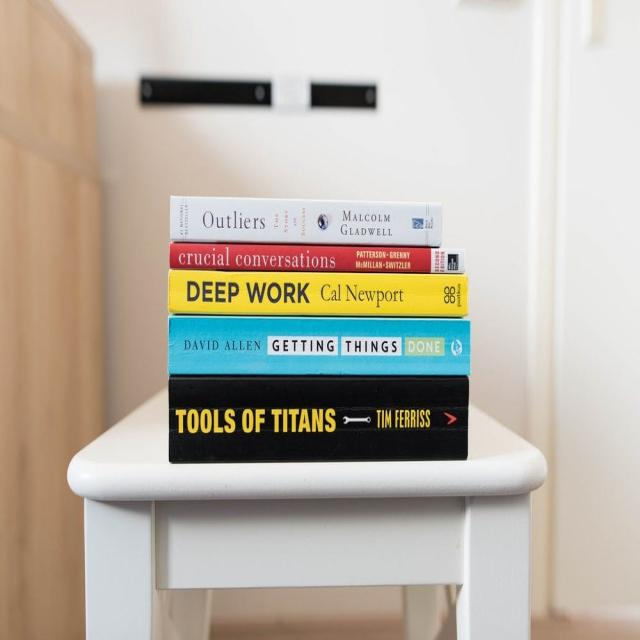book: (168, 377, 471, 458), (168, 318, 481, 370), (167, 200, 470, 248), (171, 270, 473, 316)
